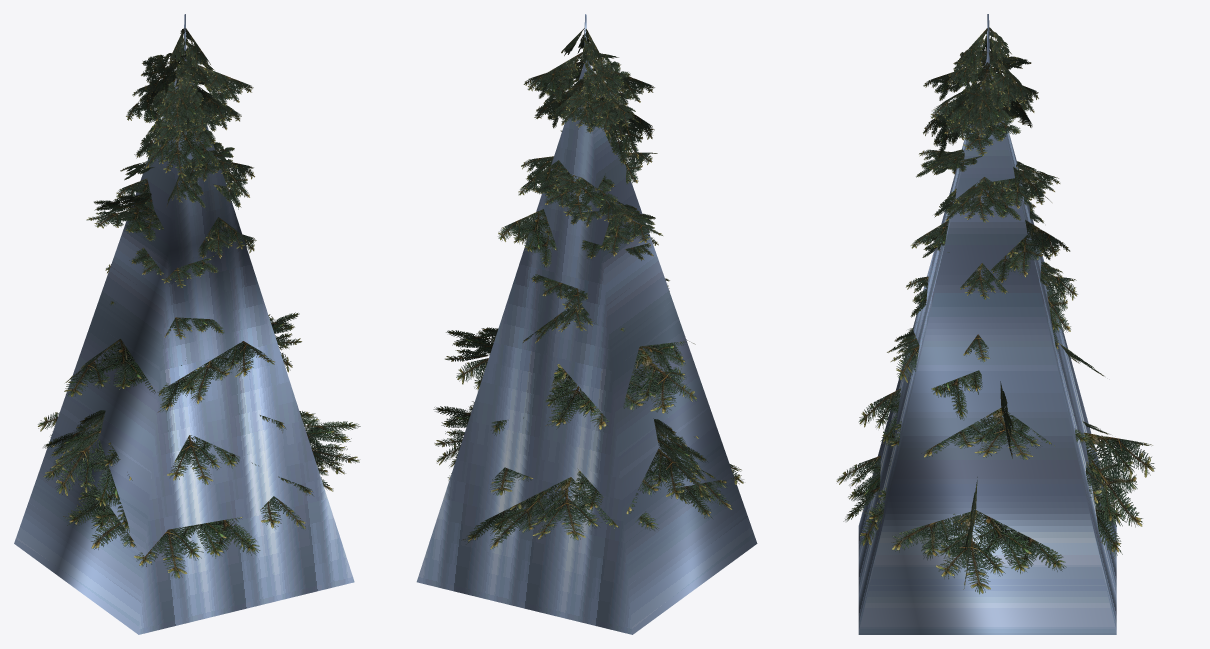
The model's file is trees_elka_1_02.fbx.
The picture shows the model from 3 angles, left to right: view 1: azimuth 30°, elevation 25°; view 2: azimuth 150°, elevation 25°; view 3: azimuth 270°, elevation 25°; orthographic projection. The views are drawn at different scales.
Parts seen in each view (by area): view 1: 1, 3; view 2: 1, 3; view 3: 1, 3.
Boxes of the visible parts, x1,y1,x2,y2 form: 1: [14, 57, 354, 634]; 3: [38, 28, 360, 578]; 1: [416, 61, 757, 634]; 3: [433, 28, 743, 549]; 1: [858, 59, 1116, 634]; 3: [836, 27, 1155, 594].
Bounding box in the file's own units: 5.6 × 9.04 × 5.33.
Materials: 3 (3 with a texture image).
